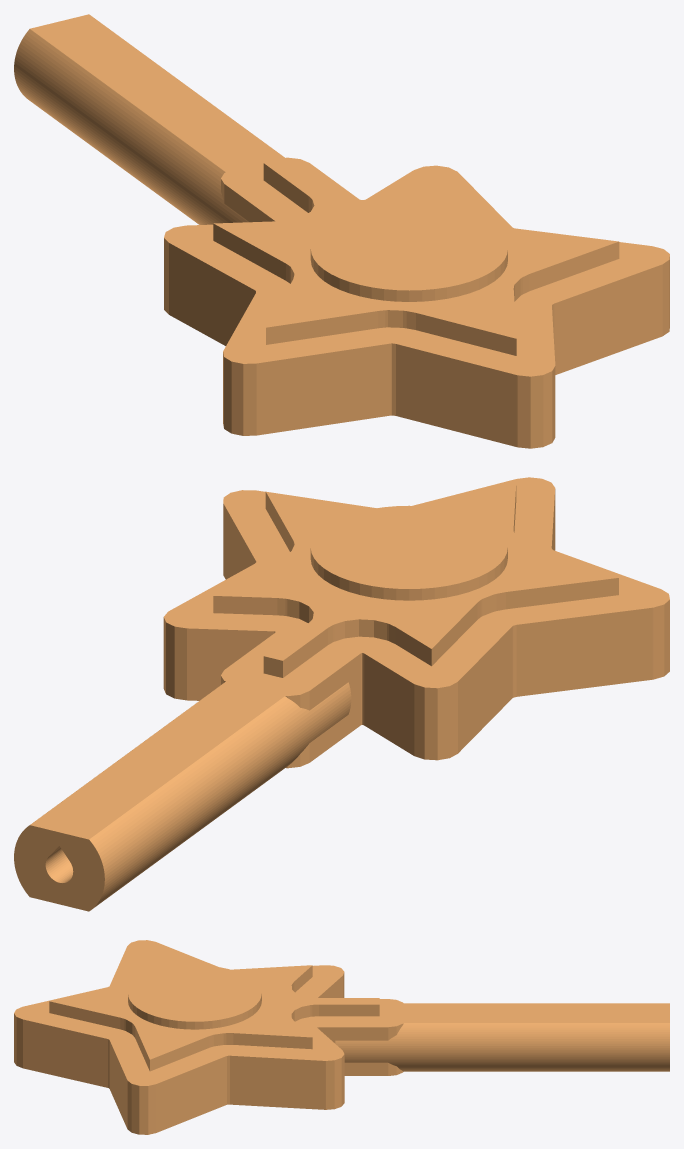
File: prop-star-shield.glb
The picture shows the model from 3 angles, top to bottom: view 1: azimuth 30°, elevation 25°; view 2: azimuth 150°, elevation 25°; view 3: azimuth 270°, elevation 25°; orthographic projection. The views are drawn at different scales.
Parts seen in each view (by area): view 1: prop-star-shield; view 2: prop-star-shield; view 3: prop-star-shield.
Part boxes in pixels (box(x1,y1,x2,y2)): prop-star-shield: box(14, 14, 669, 448); prop-star-shield: box(14, 477, 669, 911); prop-star-shield: box(14, 940, 669, 1134).
Size of the model in its own units: 0.032 by 0.007 by 0.0608.
